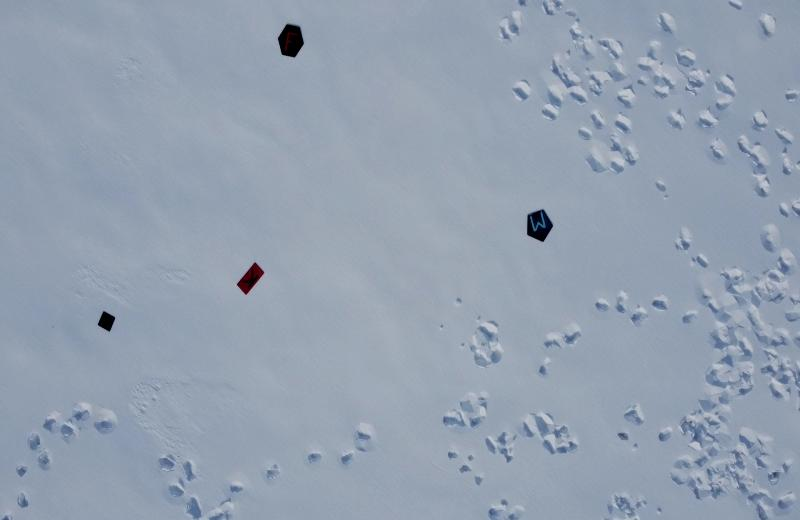Hexagon: (274, 21, 306, 60)
Pentagon: (522, 206, 555, 245)
Rectangle: (235, 260, 266, 296)
Square: (96, 309, 116, 334)
